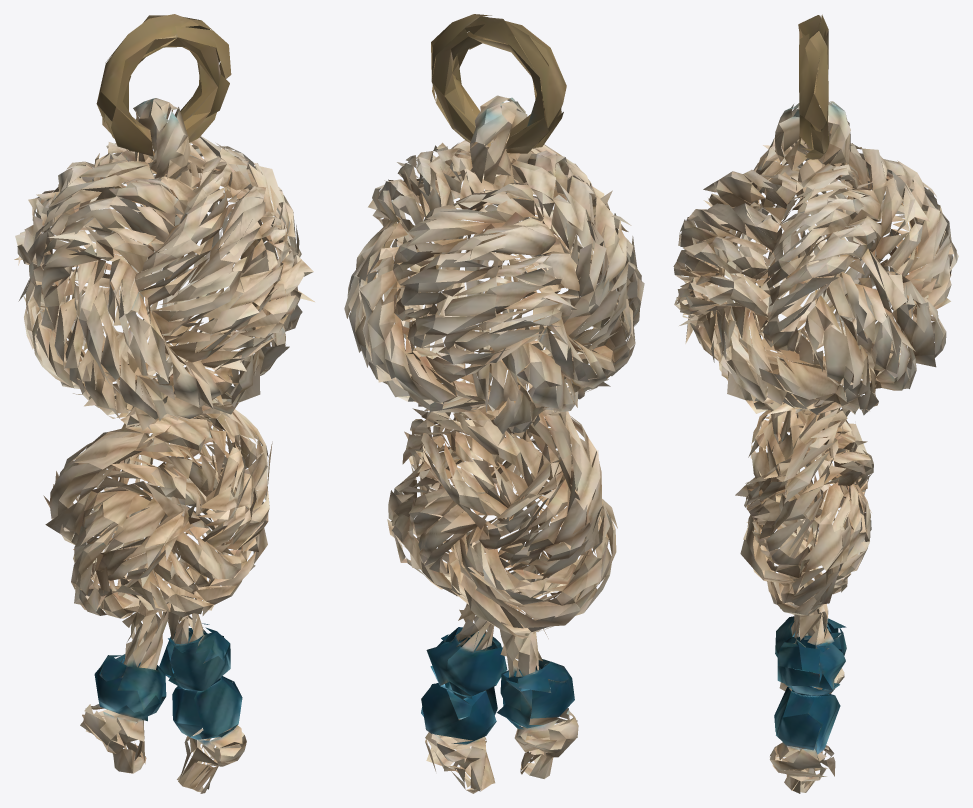
File: tide_knot.glb
3 views of the same model, side by side, from view 1: azimuth 30°, elevation 25°; view 2: azimuth 150°, elevation 25°; view 3: azimuth 270°, elevation 25° (orthographic). The views are drawn at different scales.
Parts seen in each view (by area): view 1: Mesh_0; view 2: Mesh_0; view 3: Mesh_0.
Part boxes in pixels (x1,y1,x2,y2): Mesh_0: (14, 14, 314, 793); Mesh_0: (344, 14, 644, 793); Mesh_0: (673, 14, 958, 793).
Bounding box in the file's own units: 0.3218 × 0.95 × 0.3233.
Materials: 1 (1 with a texture image).
